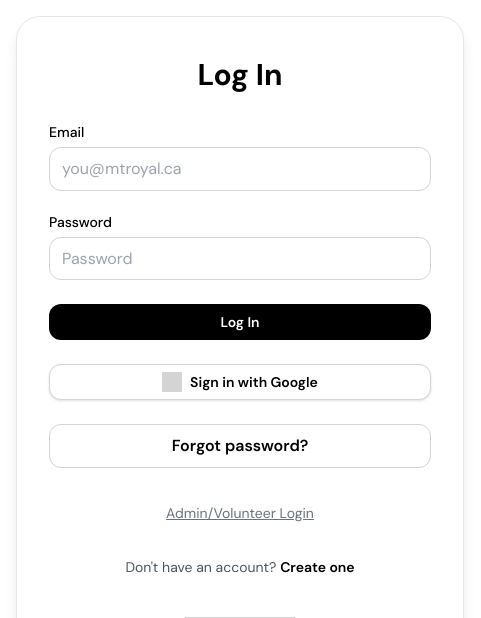
Test case: LoginPage Component › Form Submission › should show error message when login fails
Type "test@example.com" into the field labelled "Email" at x=240, y=169, box top-left (49, 147), bottom-right (431, 191)
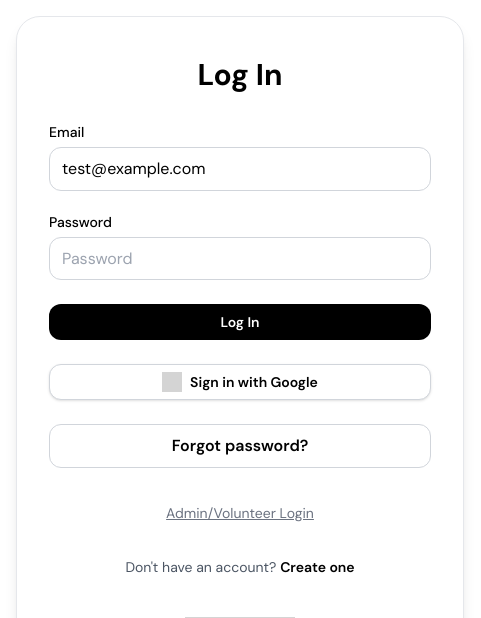
Type "password123" into the password field labelled "Password" at x=240, y=258, box top-left (49, 237), bottom-right (431, 280)
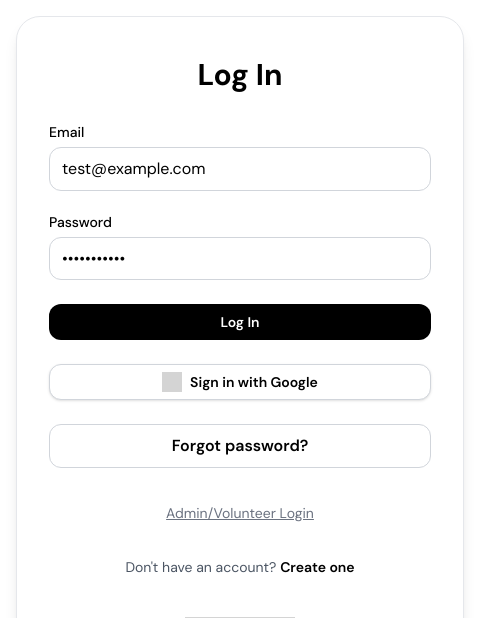
Click the button "Log In" at x=240, y=322, box top-left (49, 304), bottom-right (431, 340)
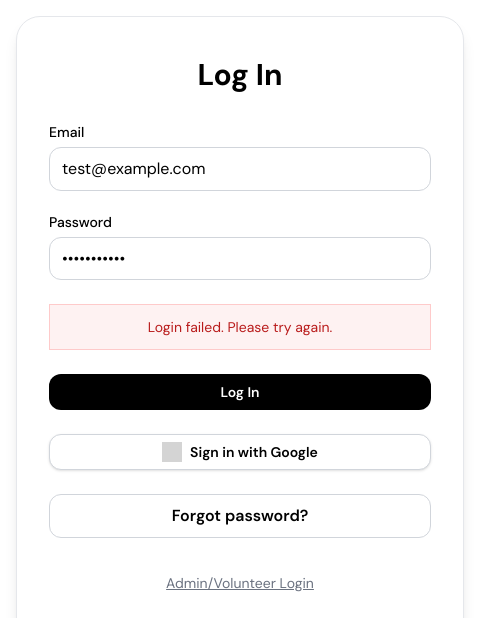
Now the text "Login failed. Please try again." is shown, box top-left (148, 318), bottom-right (332, 336)
